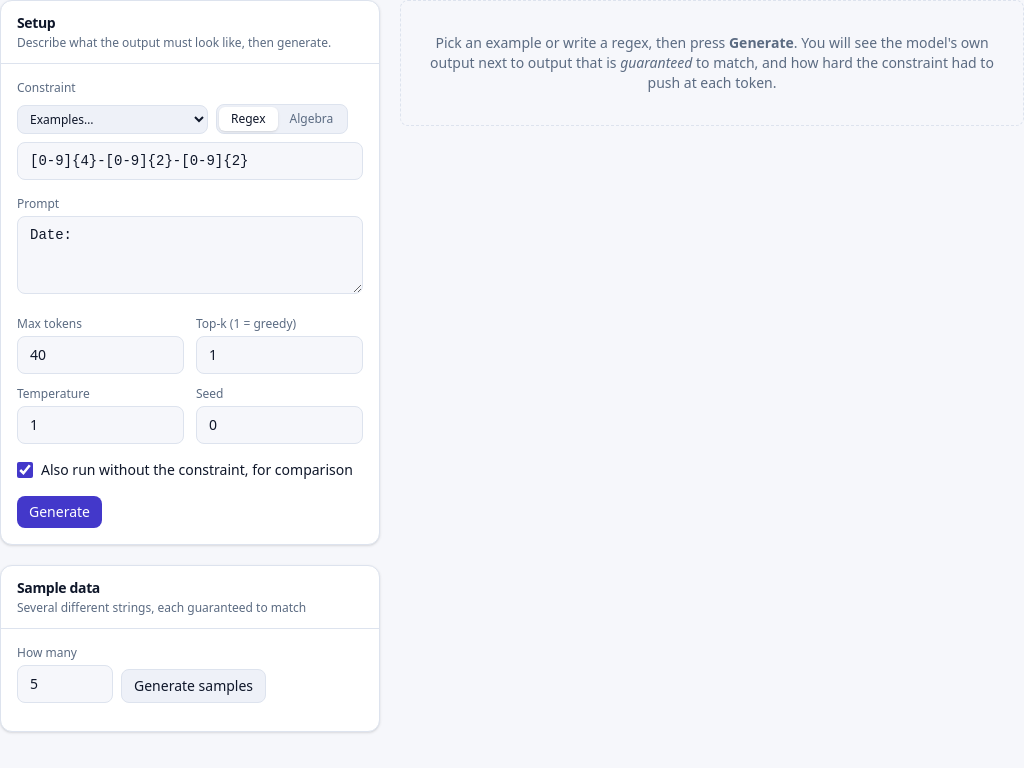
Generate page › does not allow generating with an empty constraint
The image size is (1024, 768).
Clear the field named "Constraint". click: (190, 161)
box: [17,142,363,180]
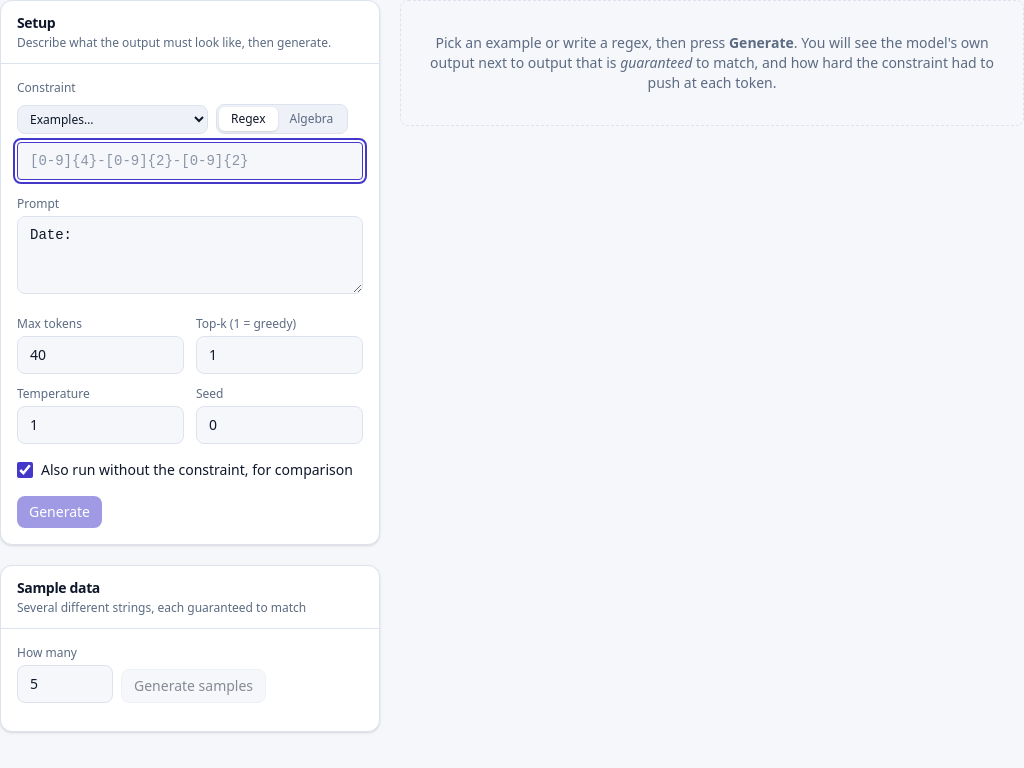
Expected: the button "Generate" is disabled, [17,496,102,528]
